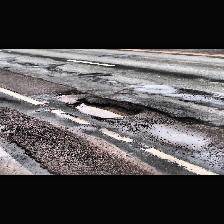pothole: (69, 96, 142, 120), (176, 116, 202, 126), (56, 93, 70, 97)
